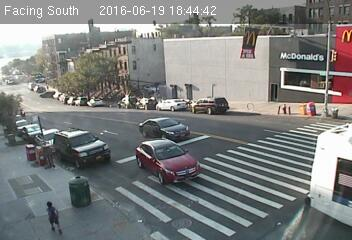neg: (251, 93, 276, 127), (298, 91, 315, 114)
pos: (34, 198, 62, 235)
